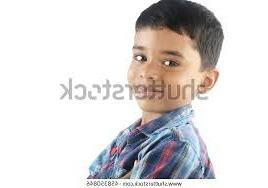Human: (89, 6, 228, 183)
